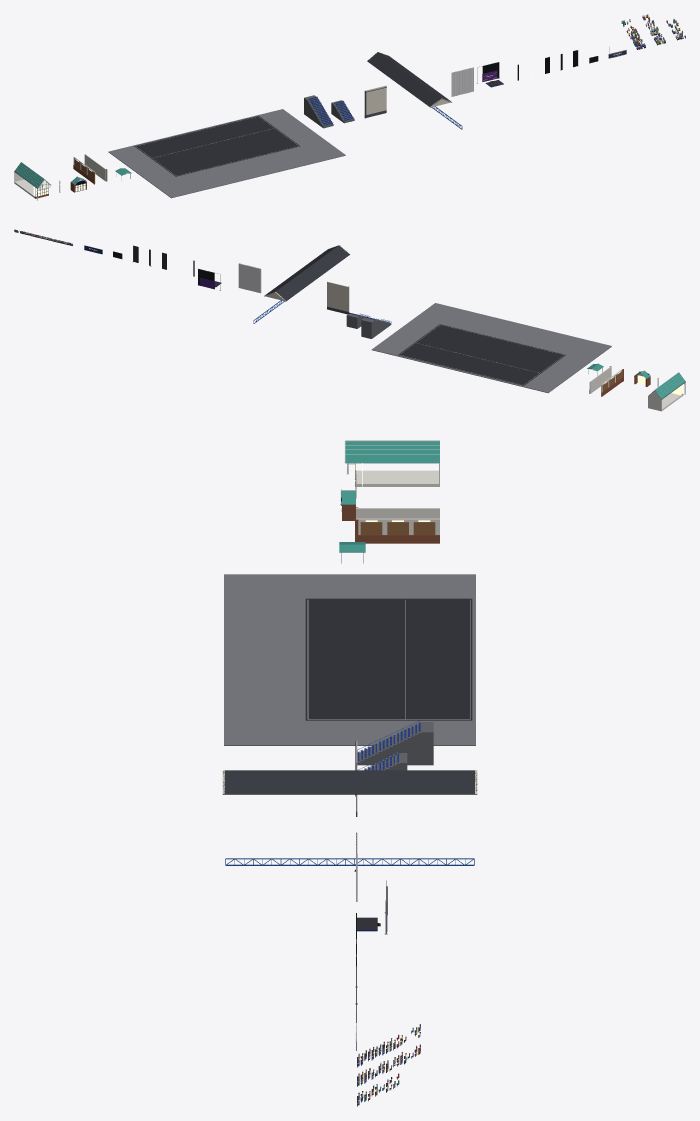
Rendered from NationalsArena_09.glb.
3 views of the same model, one above another, from view 1: azimuth 30°, elevation 25°; view 2: azimuth 150°, elevation 25°; view 3: azimuth 270°, elevation 25° (orthographic). The views are drawn at different scales.
Parts seen in each view (by area): view 1: NatFloor_Concrete, NatFloor_Rubber, NatRoofBay_Plates, NatDrape_Cloth, NatWall_Wall, NatStandMain_Steps, NatBay_Roof, NatStandEnd_Steps; view 2: NatFloor_Concrete, NatFloor_Rubber, NatRoofBay_Plates, NatDrape_Cloth, NatWall_Wall, NatStandMain_Steps, NatBay_Walls, NatBay_Roof; view 3: NatFloor_Concrete, NatFloor_Rubber, NatRoofBay_Plates, NatBay_Roof, NatStandMain_Steps, NatBay_Walls, NatTruss_Steel.
Boxes of the visible parts, bbox=[...] form: NatFloor_Concrete: bbox=[108, 109, 345, 198]; NatFloor_Rubber: bbox=[134, 115, 299, 176]; NatRoofBay_Plates: bbox=[367, 52, 451, 107]; NatDrape_Cloth: bbox=[451, 67, 473, 96]; NatWall_Wall: bbox=[364, 85, 386, 114]; NatStandMain_Steps: bbox=[304, 95, 333, 128]; NatBay_Roof: bbox=[14, 162, 50, 188]; NatStandEnd_Steps: bbox=[331, 100, 354, 123]; NatFloor_Concrete: bbox=[371, 303, 611, 393]; NatFloor_Rubber: bbox=[398, 324, 565, 385]; NatRoofBay_Plates: bbox=[264, 245, 349, 301]; NatDrape_Cloth: bbox=[238, 263, 261, 293]; NatWall_Wall: bbox=[327, 281, 349, 311]; NatStandMain_Steps: bbox=[361, 317, 391, 338]; NatBay_Walls: bbox=[648, 390, 682, 411]; NatBay_Roof: bbox=[648, 372, 685, 399]; NatFloor_Concrete: bbox=[224, 574, 475, 745]; NatFloor_Rubber: bbox=[305, 598, 472, 720]; NatRoofBay_Plates: bbox=[222, 770, 477, 794]; NatBay_Roof: bbox=[345, 441, 439, 463]; NatStandMain_Steps: bbox=[357, 722, 433, 765]; NatBay_Walls: bbox=[356, 463, 439, 486]; NatTruss_Steel: bbox=[225, 858, 474, 865].
Bounding box in the file's own units: 1253 × 68.4 × 212.
